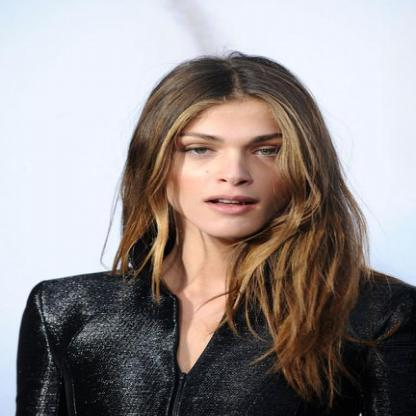long-hair: (99, 243, 369, 289)
